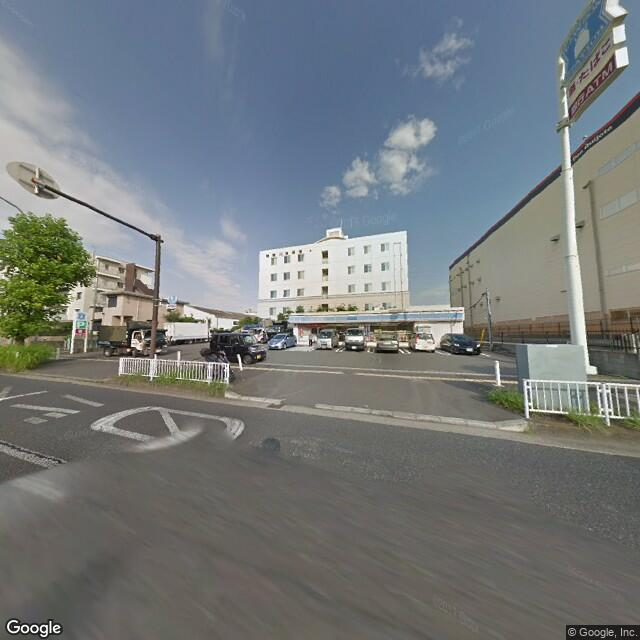lawson: (558, 1, 613, 79), (282, 305, 464, 326)
